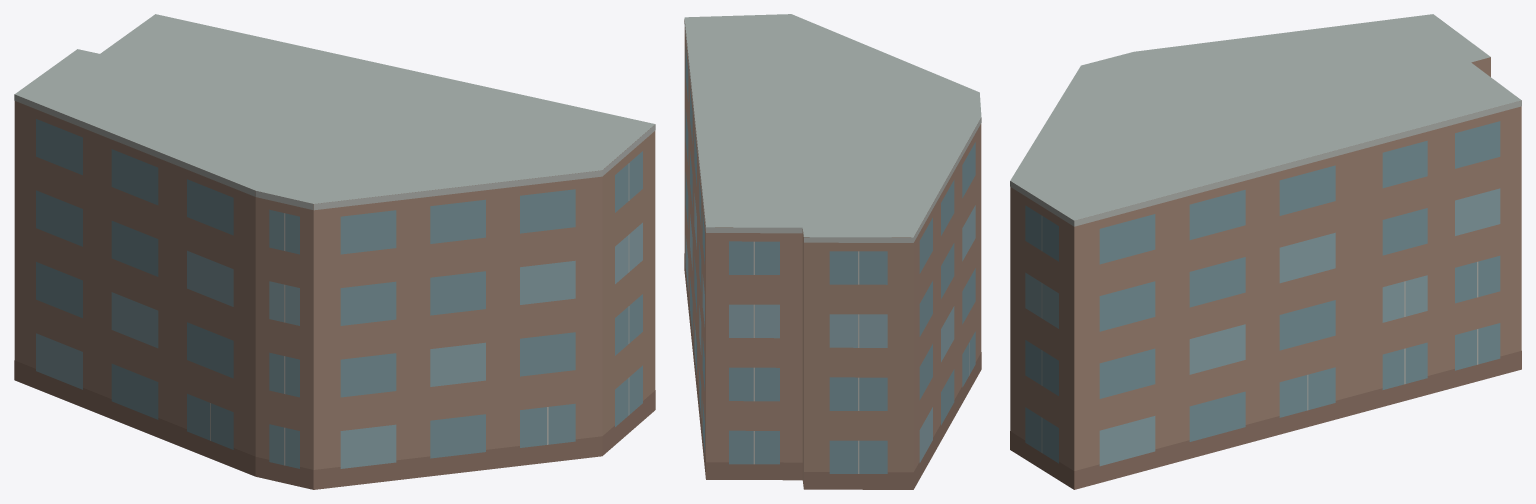
Rendered from survey-upis-32485649.glb.
3 views of the same model, side by side, from view 1: azimuth 30°, elevation 25°; view 2: azimuth 150°, elevation 25°; view 3: azimuth 270°, elevation 25° (orthographic). The views are drawn at different scales.
Visible parts, largest first — view 1: survey-upis-32485649.tmp; view 2: survey-upis-32485649.tmp; view 3: survey-upis-32485649.tmp.
Boxes of the visible parts, bbox=[...] form: survey-upis-32485649.tmp: bbox=[14, 14, 655, 489]; survey-upis-32485649.tmp: bbox=[684, 14, 981, 489]; survey-upis-32485649.tmp: bbox=[1010, 14, 1521, 489].
Size of the model in its own units: 18.13 by 11 by 18.96.
